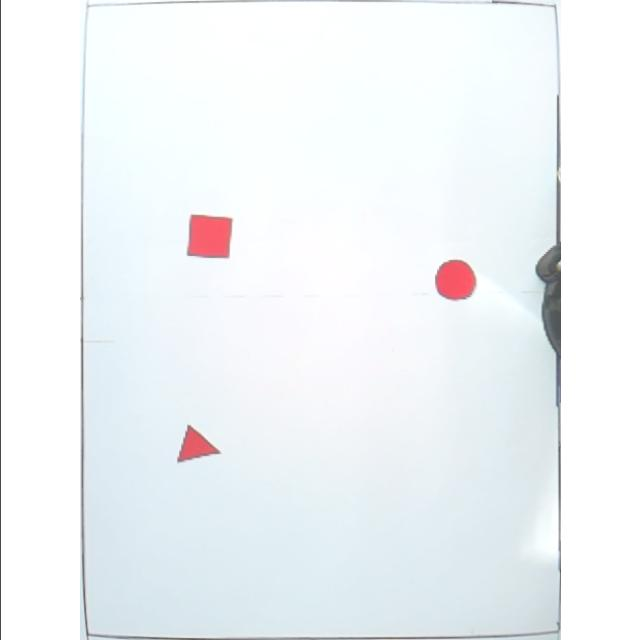redCircle: (434, 258, 478, 302)
redSquare: (187, 213, 236, 261)
redTriangle: (176, 424, 224, 466)
